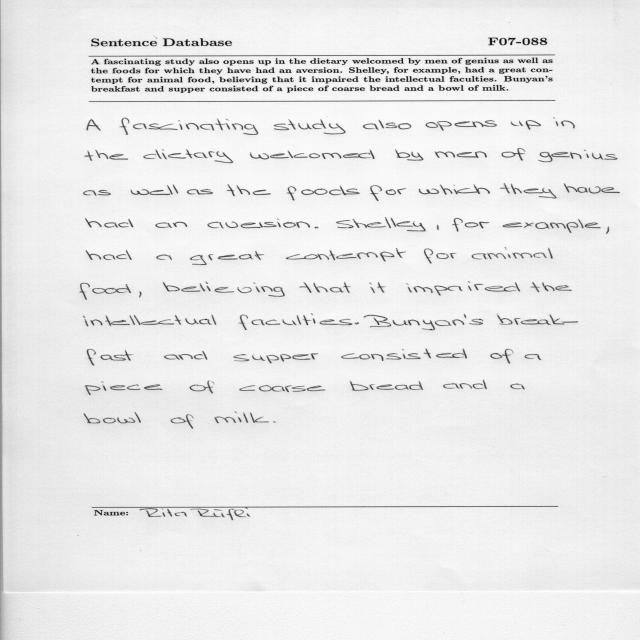word: (119, 118, 258, 135), (163, 281, 285, 297), (364, 314, 483, 330), (238, 314, 352, 330), (341, 348, 467, 361), (406, 282, 520, 296), (83, 315, 216, 327), (286, 248, 406, 261), (502, 219, 601, 233), (143, 149, 233, 163), (336, 218, 426, 232), (250, 151, 375, 160), (287, 186, 360, 201), (274, 120, 346, 135), (86, 381, 163, 395), (472, 247, 553, 260), (190, 251, 264, 265), (207, 219, 310, 229), (538, 150, 618, 162), (497, 314, 578, 325), (233, 354, 318, 364), (500, 184, 556, 199), (80, 283, 131, 299), (425, 120, 497, 131), (419, 184, 490, 195), (88, 349, 134, 365), (350, 381, 423, 391), (84, 412, 141, 424), (214, 412, 269, 424), (239, 385, 325, 392), (371, 185, 407, 201), (564, 184, 620, 194), (300, 282, 350, 293), (226, 184, 271, 196), (452, 218, 489, 232), (84, 150, 128, 161), (363, 120, 411, 130), (86, 218, 134, 228), (424, 249, 456, 264), (131, 185, 178, 195), (86, 250, 132, 260), (530, 282, 572, 292), (443, 380, 487, 389), (164, 351, 207, 360), (435, 151, 487, 158), (491, 349, 514, 364), (171, 414, 194, 429), (395, 149, 423, 161), (190, 381, 215, 394), (502, 148, 526, 161), (511, 120, 541, 130), (553, 118, 575, 129), (155, 222, 188, 228), (369, 282, 386, 293), (87, 119, 101, 131), (84, 190, 111, 196), (187, 190, 213, 195), (525, 354, 542, 360), (510, 384, 525, 390), (156, 255, 172, 260), (606, 226, 609, 234), (139, 291, 142, 298), (437, 225, 439, 230), (315, 227, 319, 229), (355, 323, 359, 325), (273, 421, 276, 422)
